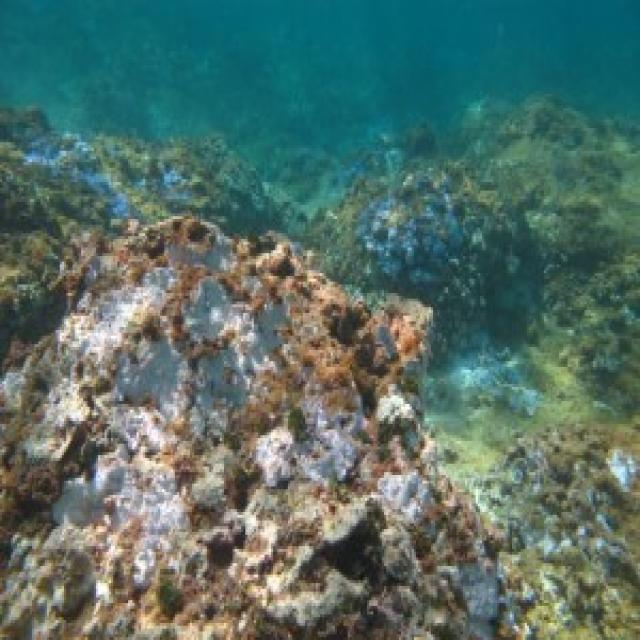Bleached: (80, 286, 287, 419), (68, 459, 186, 556), (436, 355, 557, 420), (9, 364, 76, 437), (302, 411, 358, 493), (444, 561, 502, 627), (388, 480, 435, 526), (257, 423, 298, 474), (609, 453, 638, 485)
Healthy: (486, 97, 640, 277), (522, 438, 640, 637), (353, 168, 525, 298), (100, 131, 302, 230), (1, 104, 83, 338)
